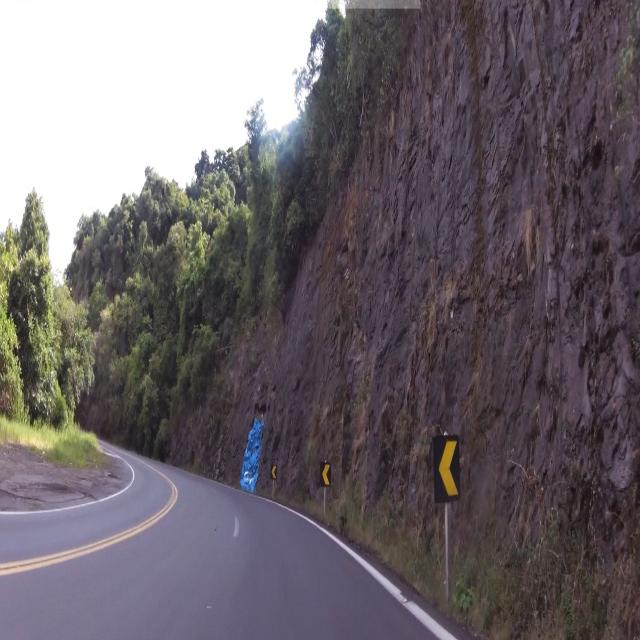Del: (431, 431, 467, 508), (319, 460, 332, 488), (270, 462, 279, 483)
